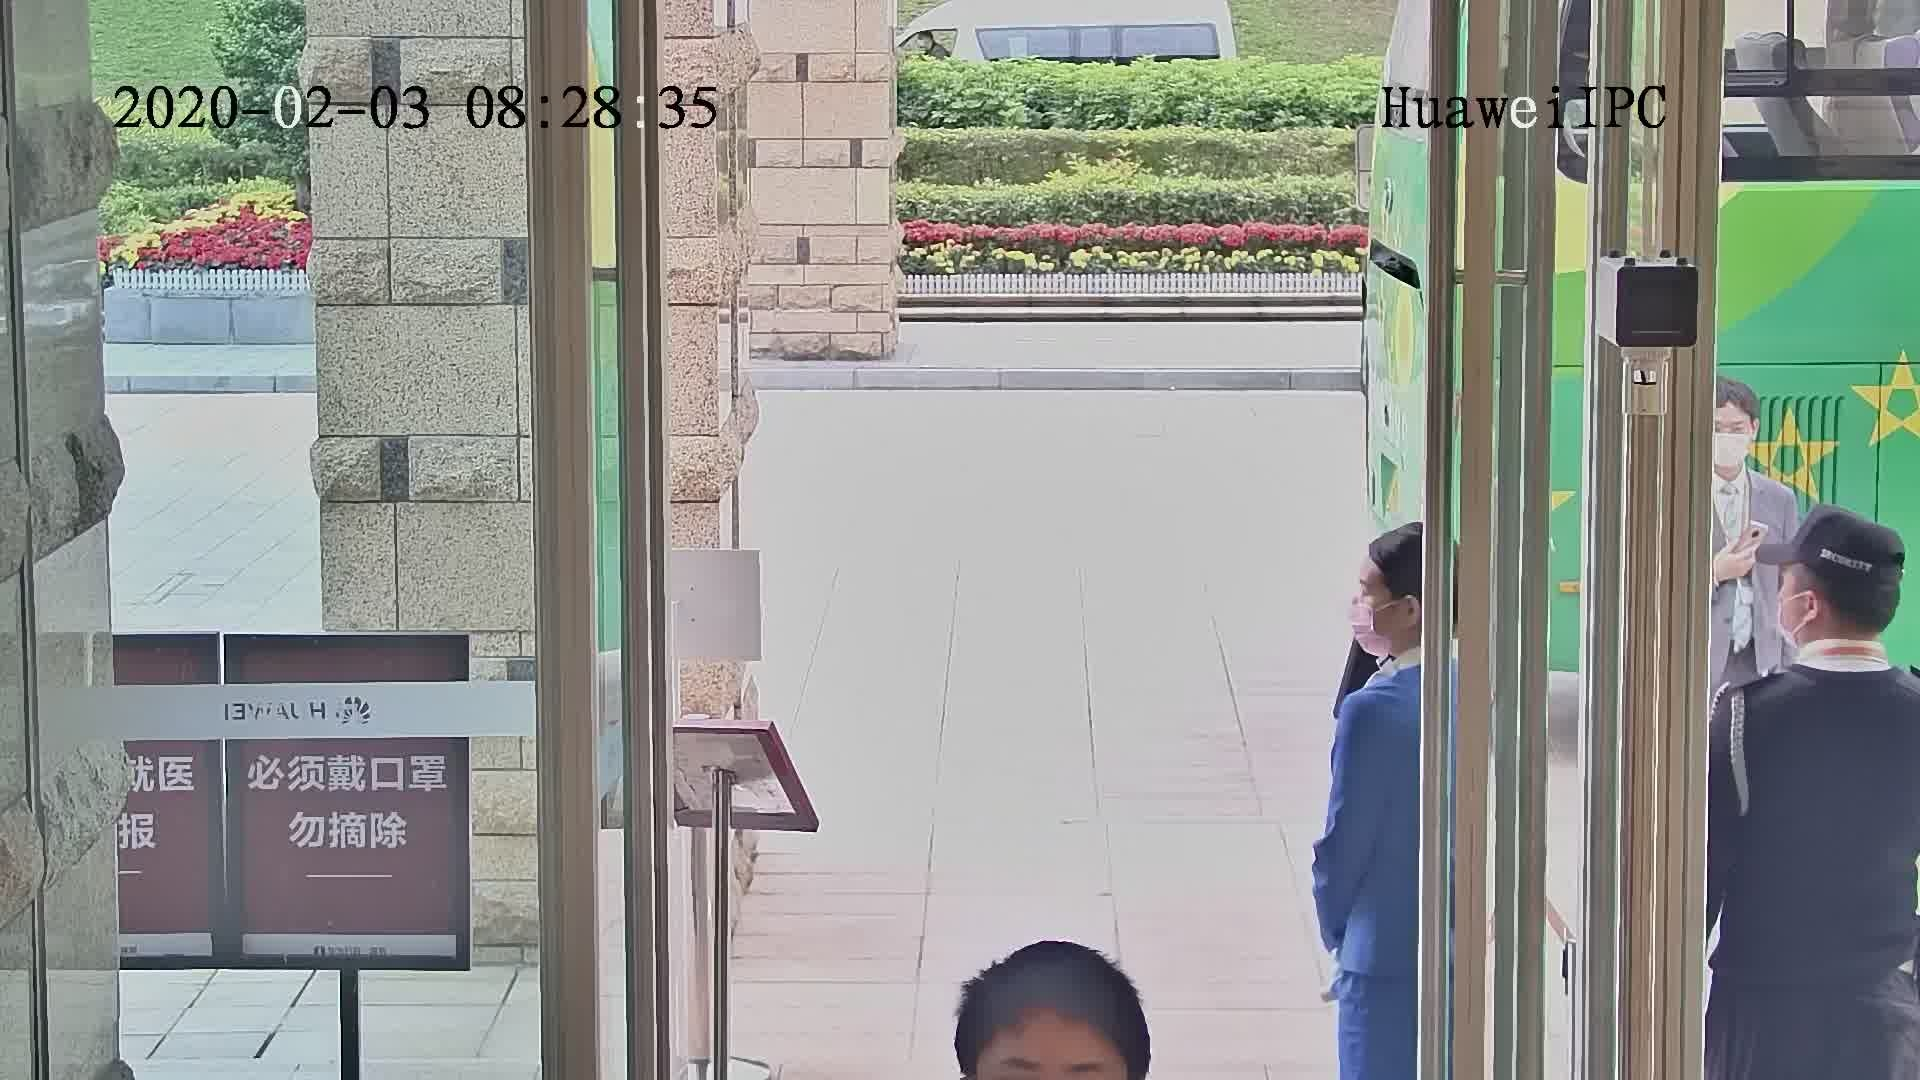face: (1347, 558, 1409, 669), (1716, 409, 1751, 480)
mask: (1349, 598, 1391, 671), (1714, 422, 1751, 471)
person: (1718, 506, 1920, 766), (1338, 515, 1432, 761), (1705, 381, 1787, 517)
